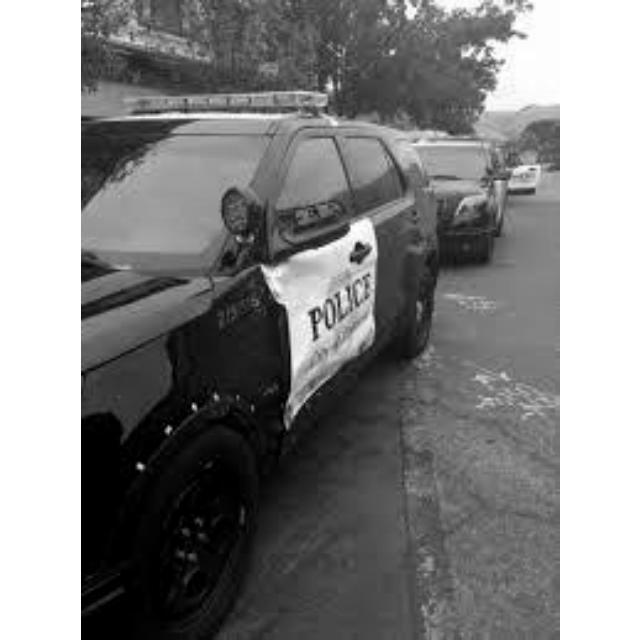doorouter-dent: (254, 223, 377, 386)
